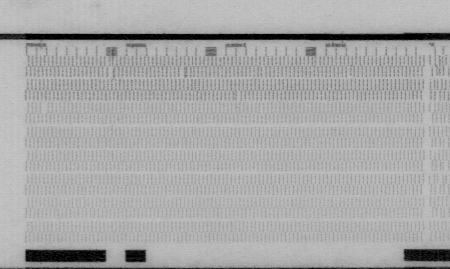Broken hole: (38, 101, 52, 114)
Oblique printing: (429, 56, 450, 80), (429, 173, 450, 185), (106, 67, 122, 80), (345, 65, 358, 78), (178, 66, 189, 77), (231, 90, 243, 100), (441, 160, 450, 171)
